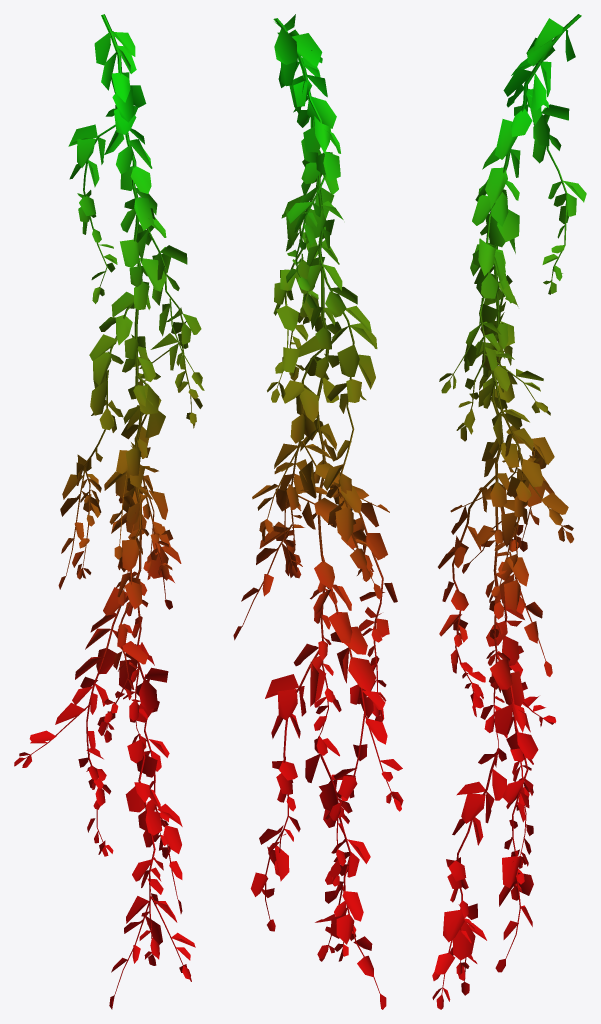
Rendered from Var7_LOD3.fbx.
3 renders of one model, left to right at view 1: azimuth 30°, elevation 25°; view 2: azimuth 150°, elevation 25°; view 3: azimuth 270°, elevation 25°, orthographic. The views are drawn at different scales.
Parts seen in each view (by area): view 1: _hhat_Var7_LOD3; view 2: _hhat_Var7_LOD3; view 3: _hhat_Var7_LOD3.
Part boxes in pixels (box(x1,y1,x2,y2)): _hhat_Var7_LOD3: box(14, 14, 204, 1009); _hhat_Var7_LOD3: box(233, 14, 403, 1009); _hhat_Var7_LOD3: box(432, 14, 586, 1009).
Bounding box in the file's own units: 41.27 × 237 × 33.13.
